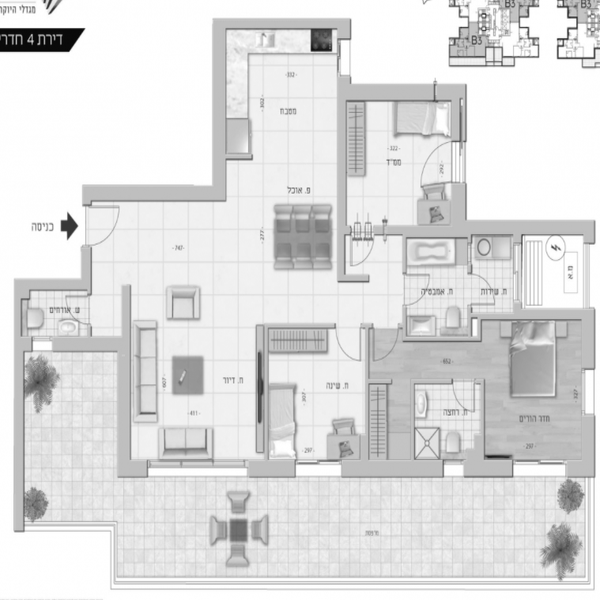door: (339, 220, 382, 274), (466, 256, 507, 310), (422, 135, 461, 186), (70, 207, 120, 246), (369, 318, 407, 364), (405, 261, 437, 312), (334, 318, 367, 362), (443, 371, 477, 411), (61, 292, 97, 329)
room: (372, 304, 600, 479), (207, 11, 344, 288), (109, 281, 271, 486), (112, 278, 272, 481), (333, 215, 597, 329), (337, 71, 459, 227), (259, 327, 370, 472)
wall: (110, 290, 151, 488), (377, 220, 594, 244), (206, 17, 233, 198), (14, 274, 32, 534), (82, 180, 228, 207), (207, 10, 355, 36), (246, 335, 275, 453), (337, 75, 352, 292), (340, 449, 442, 480), (12, 268, 97, 294), (347, 83, 468, 101), (474, 309, 600, 323), (231, 455, 301, 479), (57, 330, 124, 353), (578, 407, 600, 475), (464, 455, 520, 481), (444, 90, 465, 142), (449, 177, 470, 224), (583, 313, 597, 375), (255, 322, 335, 331)
window: (143, 456, 246, 481), (515, 457, 568, 475), (294, 457, 341, 477), (582, 244, 594, 308), (31, 335, 55, 353)
